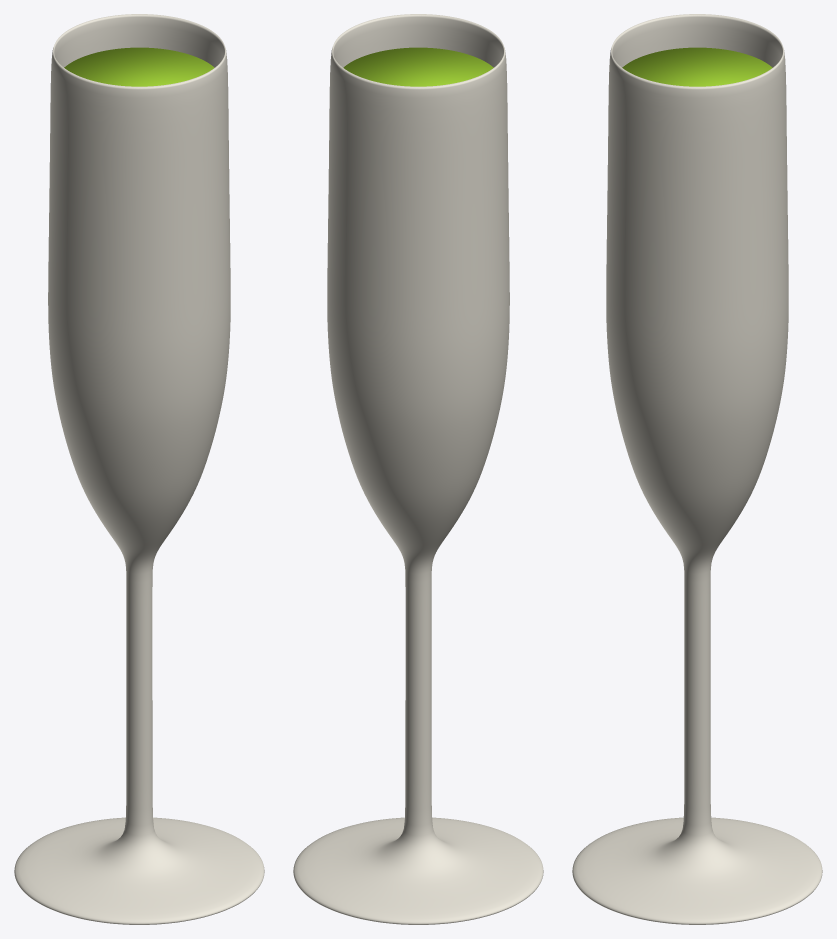
File: pahar_ghost.fbx
3 views of the same model, side by side, from view 1: azimuth 30°, elevation 25°; view 2: azimuth 150°, elevation 25°; view 3: azimuth 270°, elevation 25° (orthographic).
Visible parts, largest first — view 1: pahar inalt sampanie.001, LICHID.001; view 2: pahar inalt sampanie.001, LICHID.001; view 3: pahar inalt sampanie.001, LICHID.001.
Part boxes in pixels (bbox=[...]): pahar inalt sampanie.001: bbox=[14, 14, 264, 924]; LICHID.001: bbox=[64, 47, 214, 86]; pahar inalt sampanie.001: bbox=[293, 14, 543, 924]; LICHID.001: bbox=[343, 47, 493, 86]; pahar inalt sampanie.001: bbox=[572, 14, 822, 924]; LICHID.001: bbox=[622, 47, 772, 86].
Size of the model in its own units: 6.59 by 23.94 by 6.59.
